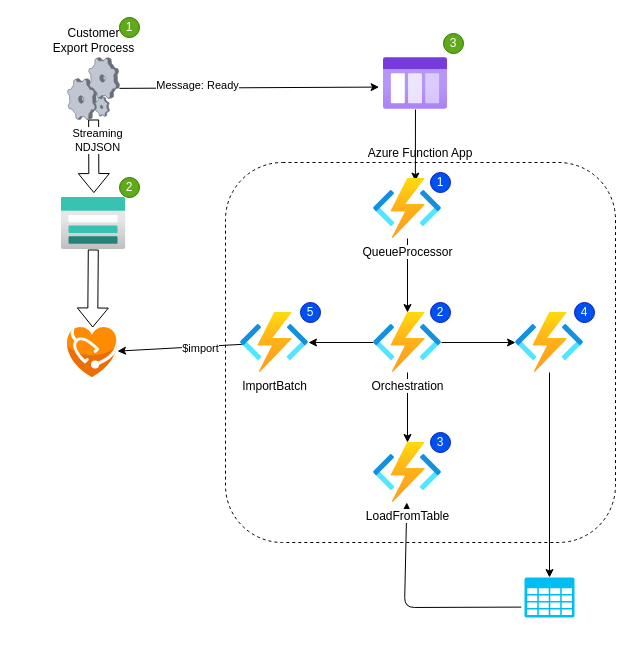
This 633x656 diagram has some shape labels left out. Here are the shapes that lost their labels. From the top down, the centre of each, then its label:
At (x=415, y=83): "Storage Queue".
At (x=93, y=223): "Storage Blobs".
At (x=92, y=352): "AHDS FHIR Service".
At (x=549, y=342): "SaveBatchReference".
At (x=549, y=597): "Batches and Files".
